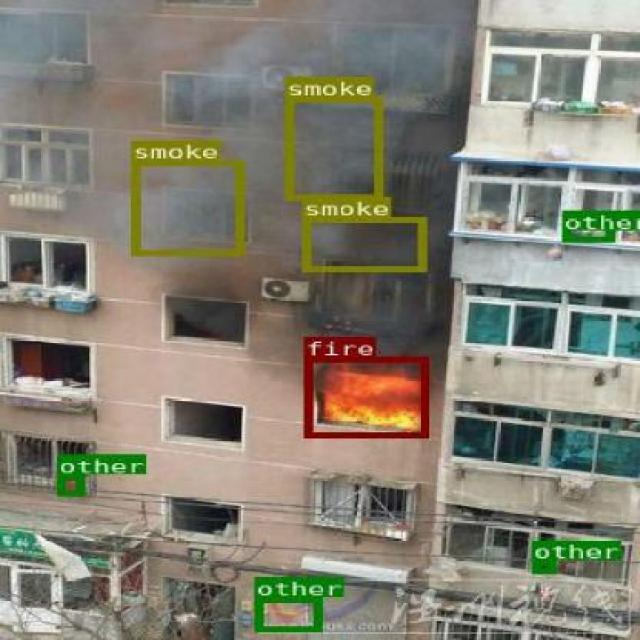fire: (303, 355, 428, 437)
smoke: (129, 158, 242, 254), (284, 95, 380, 198), (300, 216, 426, 272)
